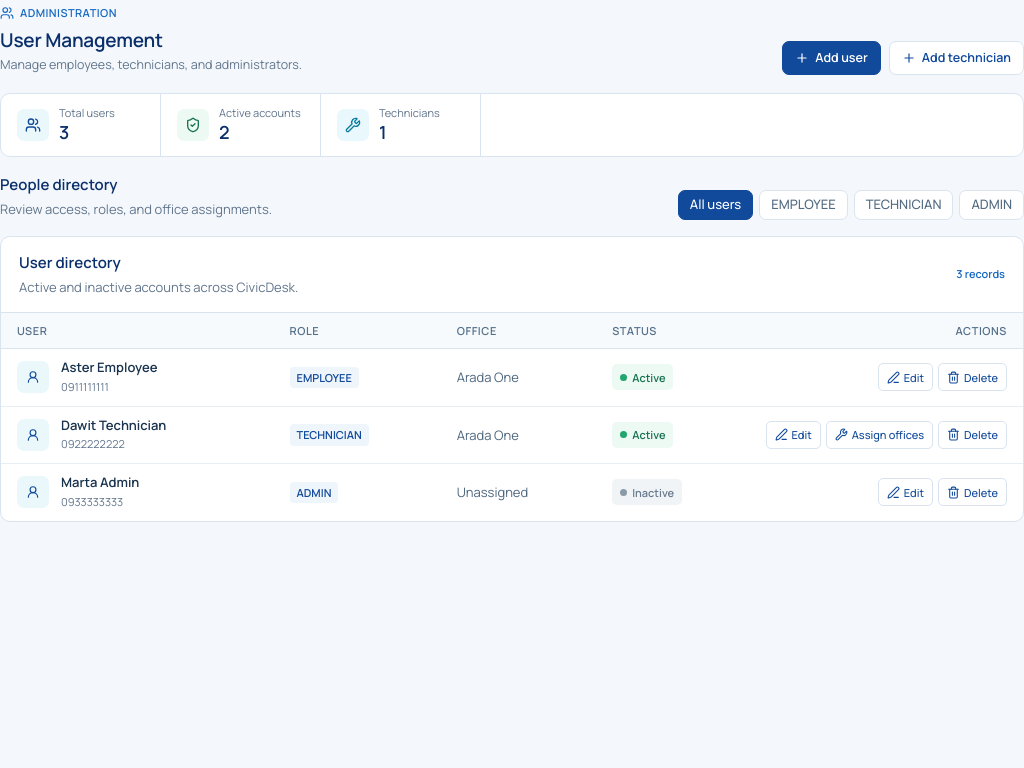
Scenario: UserManagement › opens and closes the add user modal
Expected: the text "Aster Employee" is shown, [61, 359, 158, 376]
Click the button "Add user".
click(832, 58)  # box [782, 41, 881, 75]
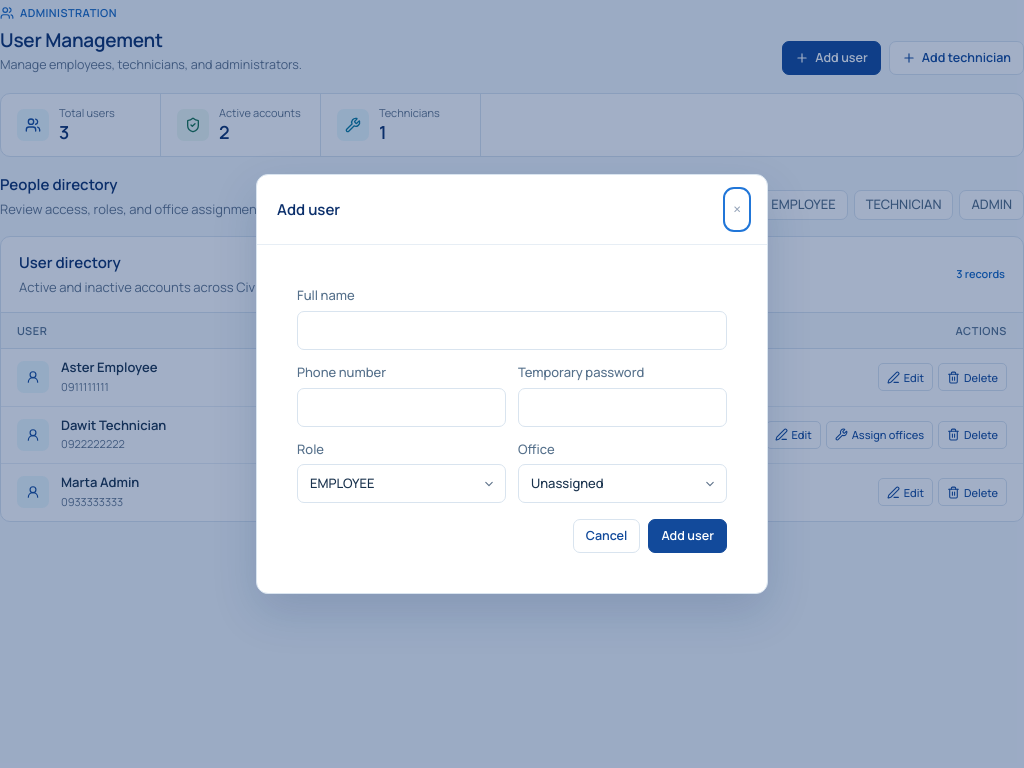
Expected: the dialog is shown, [256, 174, 768, 594]
Expected: the heading "Add user" is shown, [277, 198, 340, 222]
Click the button "Cancel".
click(607, 536)  # box [573, 519, 640, 553]
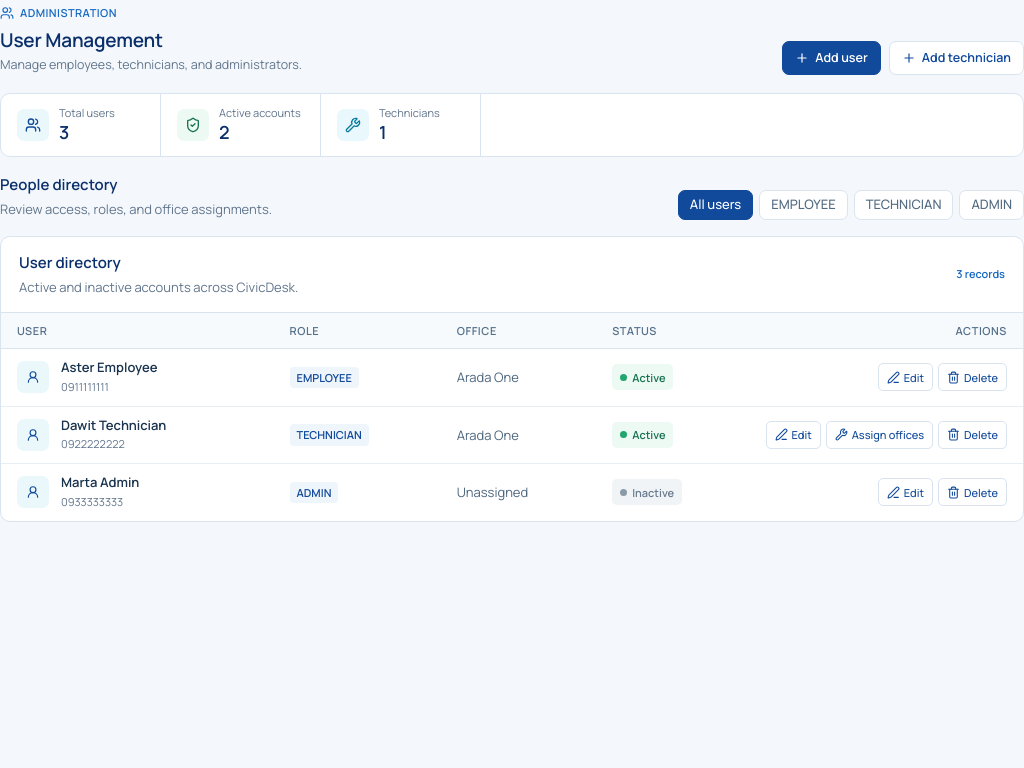
Expected: the dialog is gone
